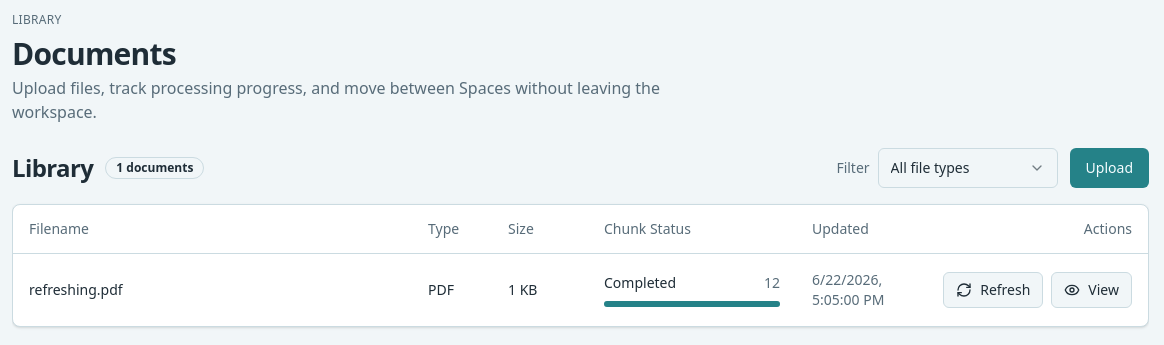
Test: DocumentsPage › shows percent text immediately while a library refresh is starting
Expected: the text "refreshing.pdf" is shown, [29,280,123,298]
Click the button "Refresh".
click(993, 290)  # box [943,272,1043,308]
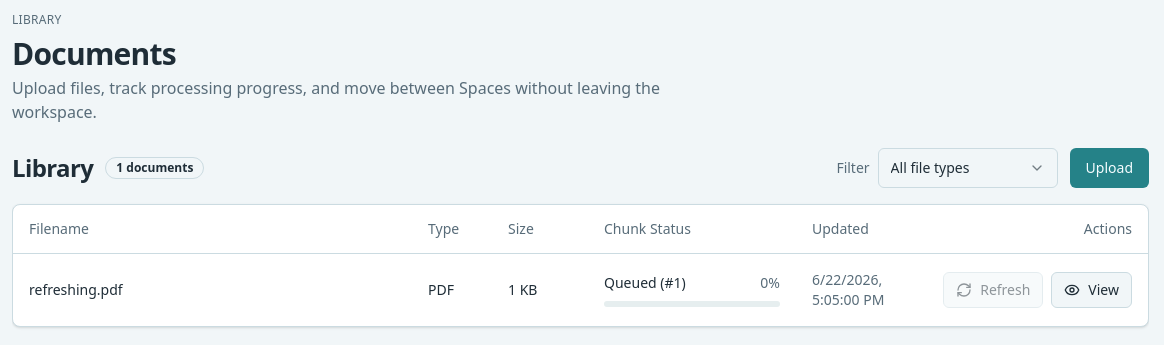
Expected: the text "Parsing" is shown, [604,272,686,292]
Result: the text "0%" is shown at [760,272,780,292]
